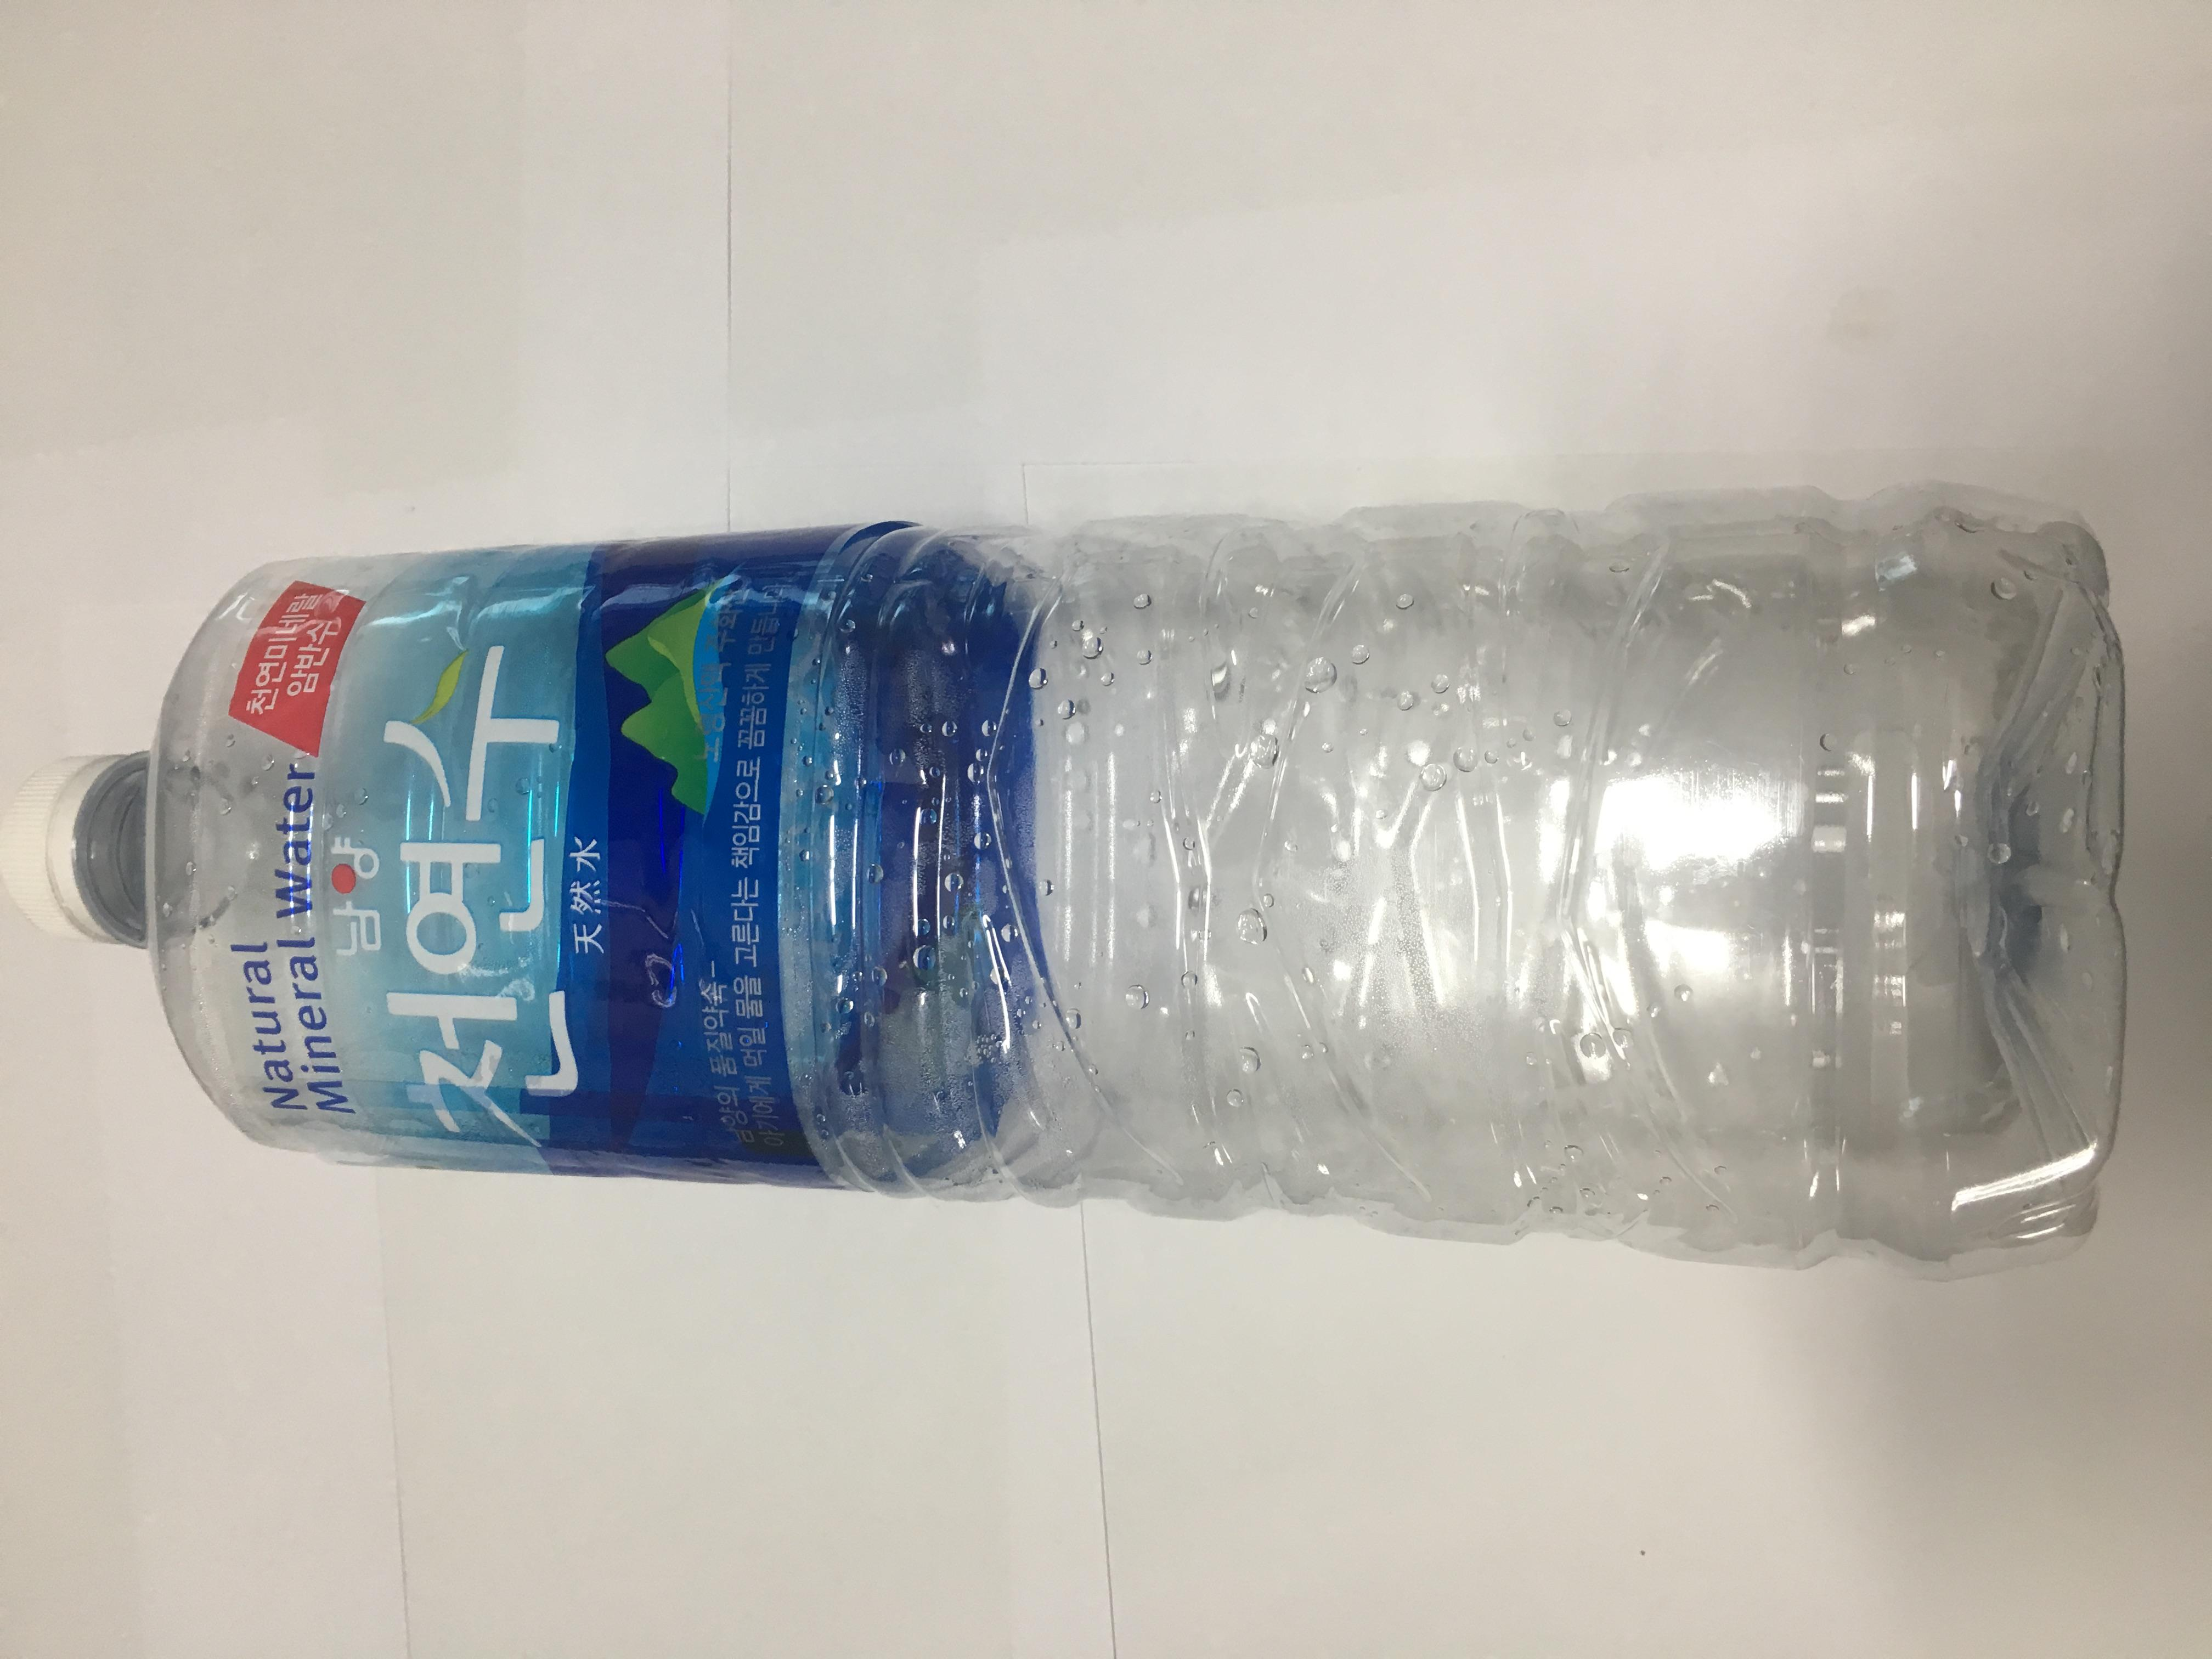bottle: (611, 0, 1578, 1659)
